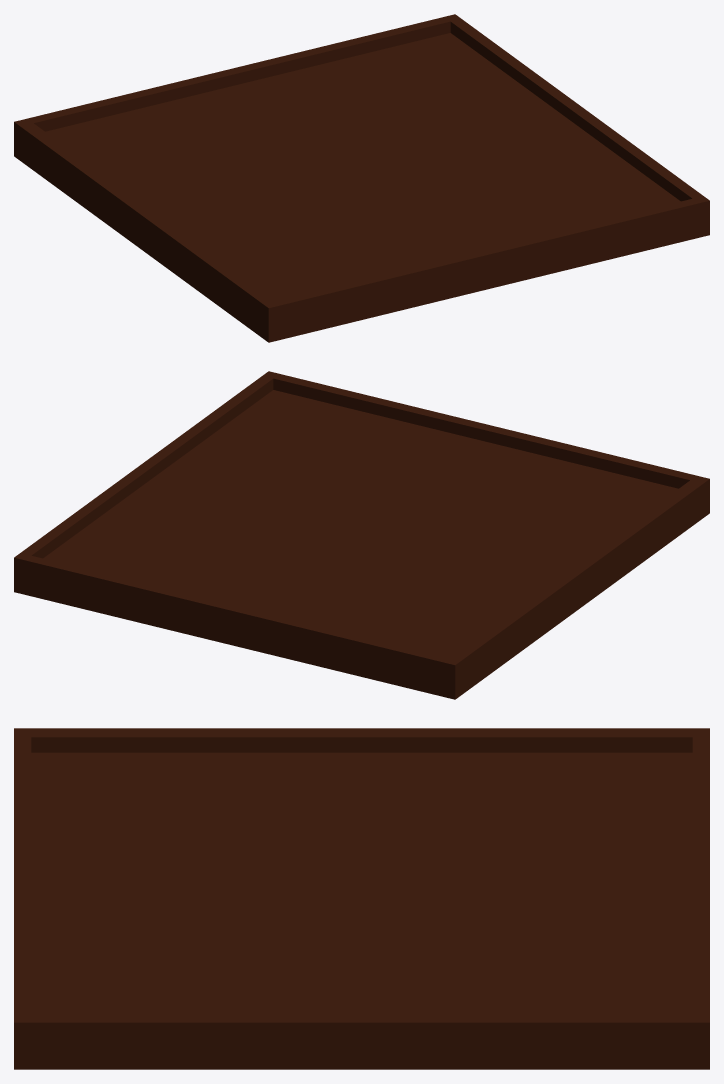
File: 2x2_floor.obj
3 renders of one model, top to bottom at view 1: azimuth 30°, elevation 25°; view 2: azimuth 150°, elevation 25°; view 3: azimuth 270°, elevation 25°, orthographic. The views are drawn at different scales.
Visible parts, largest first — view 1: Cube; view 2: Cube; view 3: Cube.
Boxes of the visible parts, bbox=[...] form: Cube: bbox=[14, 14, 709, 342]; Cube: bbox=[14, 371, 709, 699]; Cube: bbox=[14, 728, 709, 1069].
Size of the model in its own units: 2 by 0.1493 by 2.
